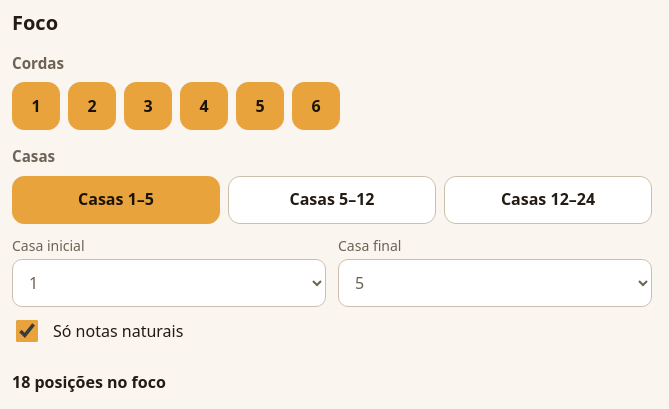
Test: Focus › applies fret presets
Click the button "Casas 5–12". click: x=332, y=200
box: [228,176,436,224]
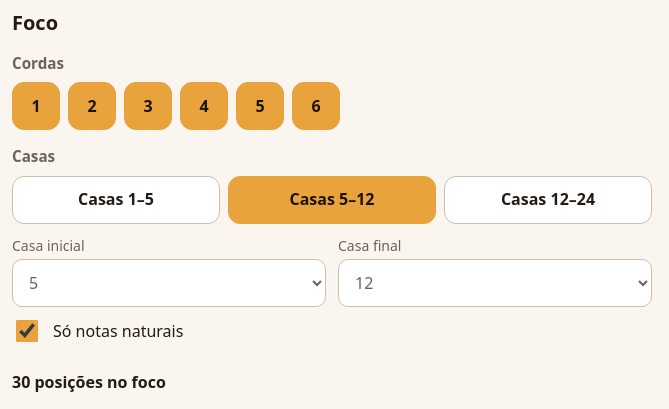
Expected: the dropdown labelled "Casa inicial" shows "5", [12,259,326,307]
Expected: the dropdown labelled "Casa final" shows "12", [338,259,652,307]
